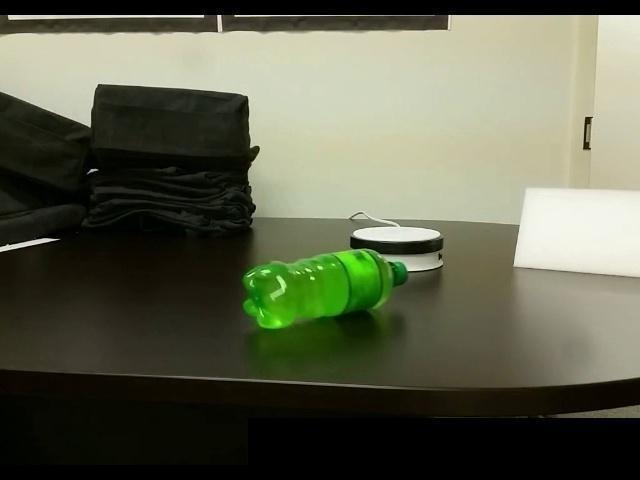bottle-plastic: (238, 244, 412, 334)
